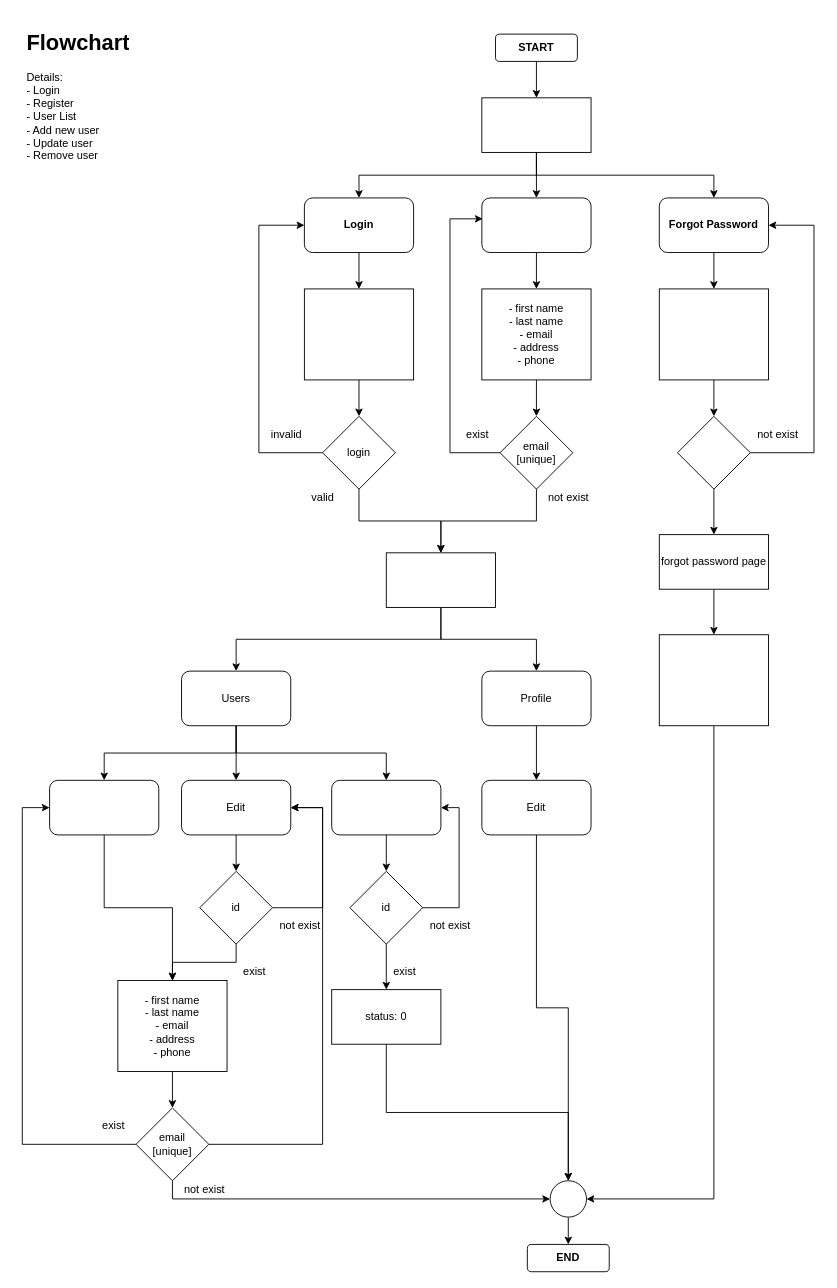
The diagram is 837 pixels wide and 1288 high, and some of its shapes have lost their labels. Here are the shapes that lost their labels. From the top down, the centre of each, then its label:
pixel 536 124: Login Page
pixel 536 225: Register
pixel 358 334: - username - password
pixel 713 334: - email
pixel 713 452: email
pixel 440 579: Dashboard
pixel 713 680: - new password
pixel 104 807: Add
pixel 386 807: Remove
